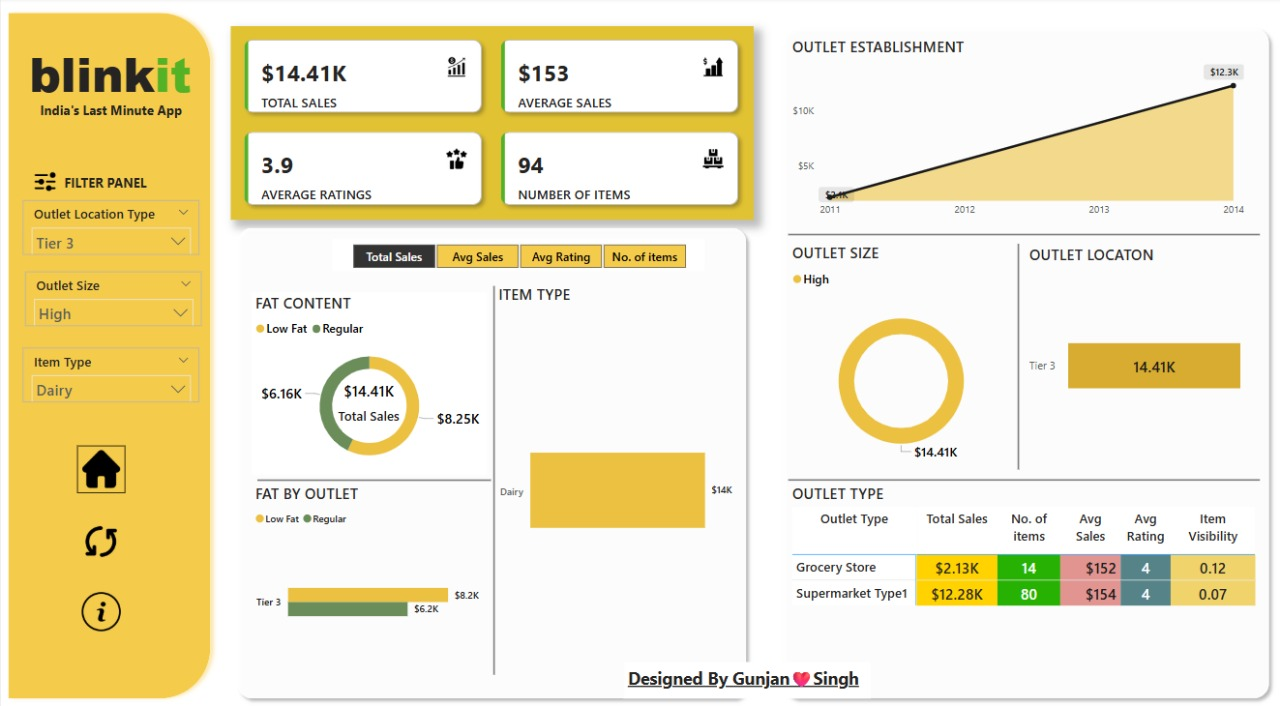

The page's visual inventory and layout, read from the dashboard file:
{"tool":"powerbi","page":{"name":"Dashboard","canvas":[1600,900],"ordinal":0},"visuals":[{"type":"shape","box":[0,10,270,873.3],"z":0},{"type":"textbox","box":[30,48.6,232.9,95.7],"z":1000},{"type":"textbox","box":[44.3,125.7,205.7,37.1],"z":2000},{"type":"cardVisual","fields":{"Data":["BlinkIT Grocery Data.Total Sales","BlinkIT Grocery Data.Avg Sales","BlinkIT Grocery Data.Avg Rating","BlinkIT Grocery Data.Number of items"]},"box":[286.7,36.7,651.7,241.7],"z":3000},{"type":"shape","box":[286.7,278.3,651.7,605],"z":4000},{"type":"donutChart","title":"FAT CONTENT","fields":{"Y":["BlinkIT Grocery Data.Total Sales"],"Category":["BlinkIT Grocery Data.Item Fat Content"]},"box":[311.7,367.3,294.3,228.6],"z":5000},{"type":"slicer","fields":{"Values":["Metrics.Metrics"]},"box":[413.2,301.6,464.5,40.7],"z":6000},{"type":"card","fields":{"Values":["BlinkIT Grocery Data.Total Sales"]},"box":[406.7,456.7,103.3,95],"z":7000},{"type":"clusteredBarChart","title":"FAT BY OUTLET","fields":{"Y":["BlinkIT Grocery Data.Total Sales"],"Category":["BlinkIT Grocery Data.Outlet Location Type"],"Series":["BlinkIT Grocery Data.Item Fat Content"]},"box":[311.7,606.7,295,238.3],"z":8000},{"type":"shape","box":[320,580,291.4,44.3],"z":9000},{"type":"shape","box":[595,360,38.3,485],"z":10000},{"type":"barChart","title":"ITEM TYPE","fields":{"Y":["BlinkIT Grocery Data.Total Sales"],"Category":["BlinkIT Grocery Data.Item Type"]},"box":[615,356.7,310,488.3],"z":11000},{"type":"shape","box":[966.7,30,623.3,853.3],"z":12000},{"type":"lineChart","title":"OUTLET ESTABLISHMENT","fields":{"Category":["BlinkIT Grocery Data.Outlet Establishment Year"],"Y":["BlinkIT Grocery Data.Total Sales"]},"box":[981.7,48.3,573.3,235],"z":13000},{"type":"shape","box":[981.7,279,588.1,34.7],"z":14000},{"type":"donutChart","title":"OUTLET SIZE","fields":{"Y":["BlinkIT Grocery Data.Total Sales"],"Category":["BlinkIT Grocery Data.Outlet Size"]},"box":[981.7,306.1,282,289.5],"z":15000},{"type":"shape","box":[1248.3,308.3,40,281.7],"z":16000},{"type":"funnel","title":"OUTLET LOCATON","fields":{"Y":["Sum(BlinkIT Grocery Data.Sales)"],"Category":["BlinkIT Grocery Data.Outlet Location Type"]},"box":[1276.7,308.3,278.3,280],"z":17000},{"type":"shape","box":[981.7,585.1,588.1,34.7],"z":18000},{"type":"pivotTable","title":"OUTLET TYPE","fields":{"Rows":["BlinkIT Grocery Data.Outlet Type"],"Values":["BlinkIT Grocery Data.Total Sales","BlinkIT Grocery Data.No. of items","BlinkIT Grocery Data.Avg Sales","BlinkIT Grocery Data.Avg Rating","Avg(BlinkIT Grocery Data.Item Visibility)"]},"box":[981.7,606.7,588.3,238.3],"z":19000},{"type":"slicer","fields":{"Values":["BlinkIT Grocery Data.Outlet Location Type"]},"box":[26.7,253.3,220,68.3],"z":20000},{"type":"slicer","fields":{"Values":["BlinkIT Grocery Data.Outlet Size"]},"box":[30,341.7,220,68.3],"z":21000},{"type":"slicer","fields":{"Values":["BlinkIT Grocery Data.Item Type"]},"box":[26.7,436.7,220,68.3],"z":22000},{"type":"textbox","box":[74.2,215.7,123.7,37.7],"z":23000},{"type":"image","box":[95,559.5,60.3,58.8],"z":24000},{"type":"image","box":[36.5,206.6,37.7,46.7],"z":25000},{"type":"image","box":[95,650,60.3,58.8],"z":26000},{"type":"image","box":[95,737.4,60.3,58.8],"z":27000},{"type":"qnaVisual","box":[1589.5,883.7,10.6,16.6],"z":28000},{"type":"textbox","box":[776.6,829.4,307.6,45.2],"z":29000}]}

Visuals, with their boxes in screenshot pixels (x1, y1, x2, y2), scaled from the page's 1600x900 canvas onto the 1280x706 screenshot:
shape: <region>0, 8, 216, 693</region>
textbox: <region>24, 38, 210, 113</region>
textbox: <region>35, 99, 200, 128</region>
cardVisual - BlinkIT Grocery Data.Total Sales x BlinkIT Grocery Data.Avg Sales: <region>229, 29, 751, 218</region>
shape: <region>229, 218, 751, 693</region>
"FAT CONTENT" donutChart: <region>249, 288, 485, 467</region>
slicer - Metrics.Metrics: <region>331, 237, 702, 269</region>
card - BlinkIT Grocery Data.Total Sales: <region>325, 358, 408, 433</region>
"FAT BY OUTLET" clusteredBarChart: <region>249, 476, 485, 663</region>
shape: <region>256, 455, 489, 490</region>
shape: <region>476, 282, 507, 663</region>
"ITEM TYPE" barChart: <region>492, 280, 740, 663</region>
shape: <region>773, 24, 1272, 693</region>
"OUTLET ESTABLISHMENT" lineChart: <region>785, 38, 1244, 222</region>
shape: <region>785, 219, 1256, 246</region>
"OUTLET SIZE" donutChart: <region>785, 240, 1011, 467</region>
shape: <region>999, 242, 1031, 463</region>
"OUTLET LOCATON" funnel: <region>1021, 242, 1244, 461</region>
shape: <region>785, 459, 1256, 486</region>
"OUTLET TYPE" pivotTable: <region>785, 476, 1256, 663</region>
slicer - BlinkIT Grocery Data.Outlet Location Type: <region>21, 199, 197, 252</region>
slicer - BlinkIT Grocery Data.Outlet Size: <region>24, 268, 200, 322</region>
slicer - BlinkIT Grocery Data.Item Type: <region>21, 343, 197, 396</region>
textbox: <region>59, 169, 158, 199</region>
image: <region>76, 439, 124, 485</region>
image: <region>29, 162, 59, 199</region>
image: <region>76, 510, 124, 556</region>
image: <region>76, 578, 124, 625</region>
qnaVisual: <region>1272, 693, 1279, 705</region>
textbox: <region>621, 651, 867, 686</region>
